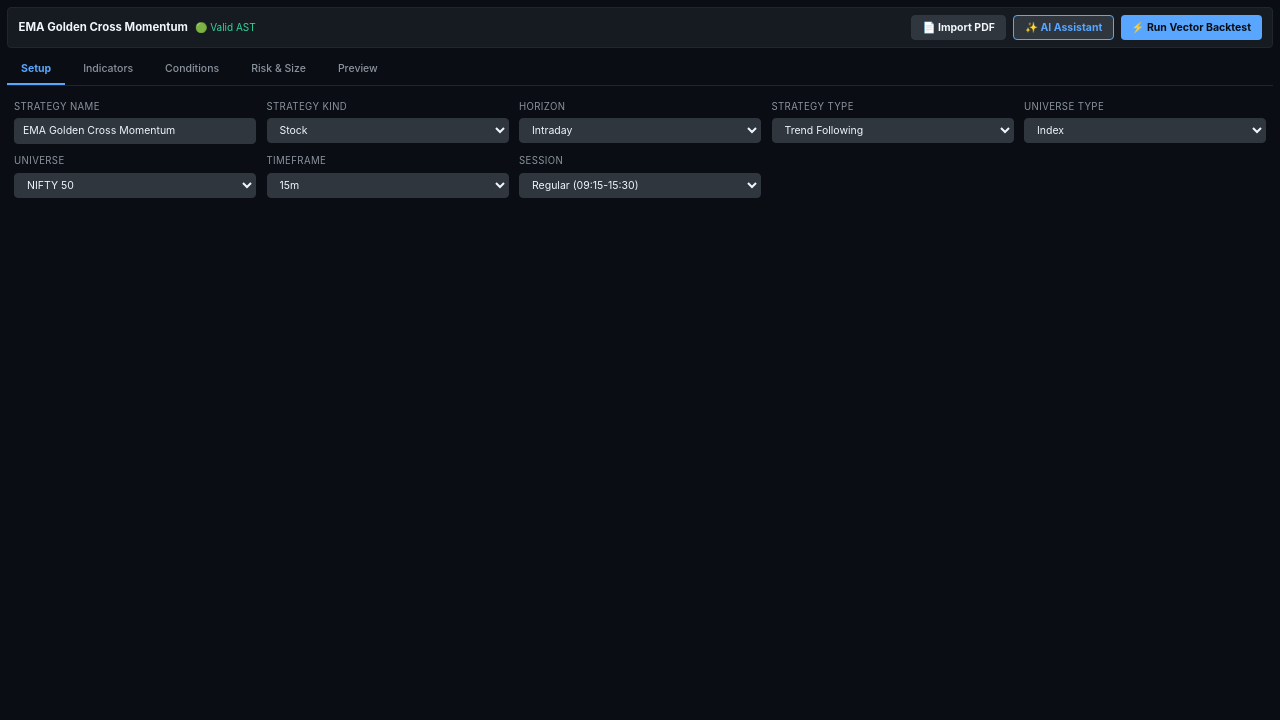
Test case: StrategyBuilderWidget Component › renders error state when backtest service fails
This screenshot has width=1280, height=720.
Click the button "⚡ Run Vector Backtest".
click(1191, 27)  # box [1121,15,1262,40]
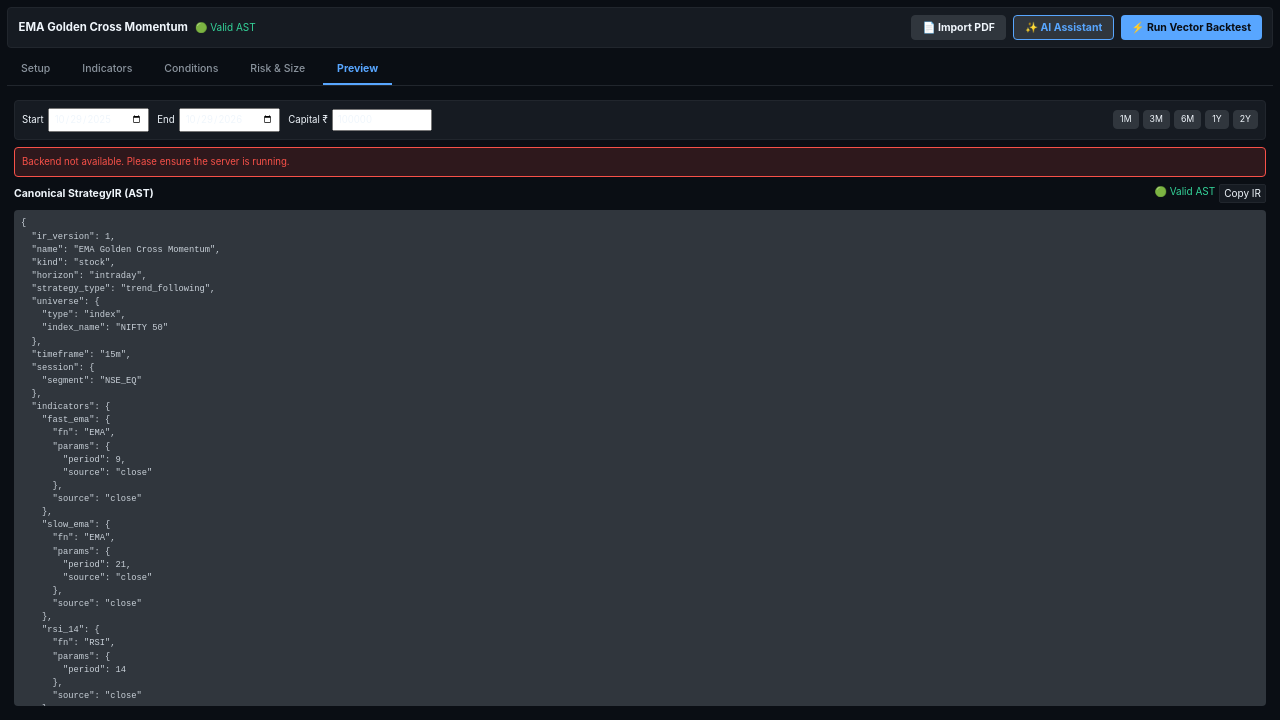
Expected: the text "Backend not available. Please ensure the server is running." is shown, [14,147,1266,177]
Expected: the text with test id "backtest-error" shows "Backend not available", [22,156,290,167]
